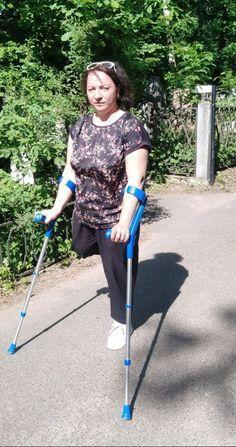crutches: (3, 51, 159, 429)
